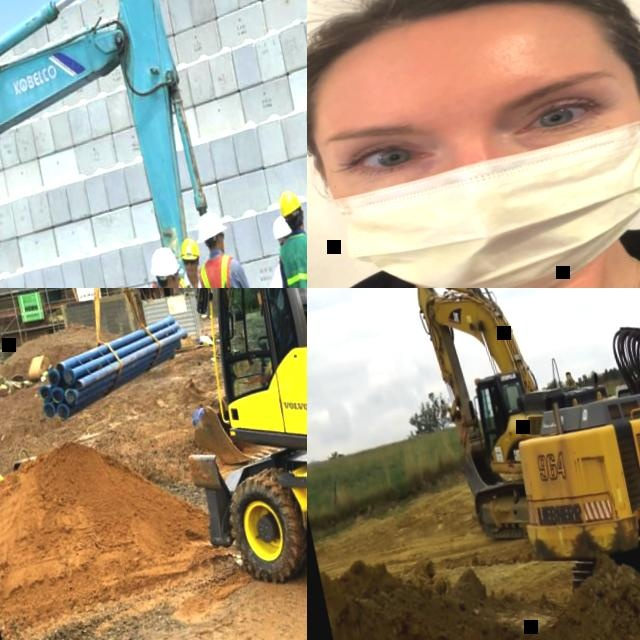Hardhat: (193, 207, 226, 241), (147, 244, 181, 276), (177, 235, 202, 263), (279, 188, 303, 214), (272, 215, 294, 240)
Mask: (307, 69, 640, 288)
NO-Hardhat: (307, 0, 633, 105)
NO-Mask: (184, 263, 198, 277), (167, 278, 182, 288), (218, 241, 228, 251)
NO-Safety Vest: (307, 221, 640, 288)
Person: (307, 0, 640, 288), (184, 203, 290, 288), (249, 292, 300, 383), (163, 233, 247, 288), (482, 386, 512, 444)
Safety Vest: (196, 249, 255, 288), (275, 227, 307, 288), (173, 267, 219, 288), (269, 306, 293, 343)
machinery: (60, 288, 307, 640), (0, 0, 256, 288), (468, 288, 640, 640), (409, 288, 634, 551)
